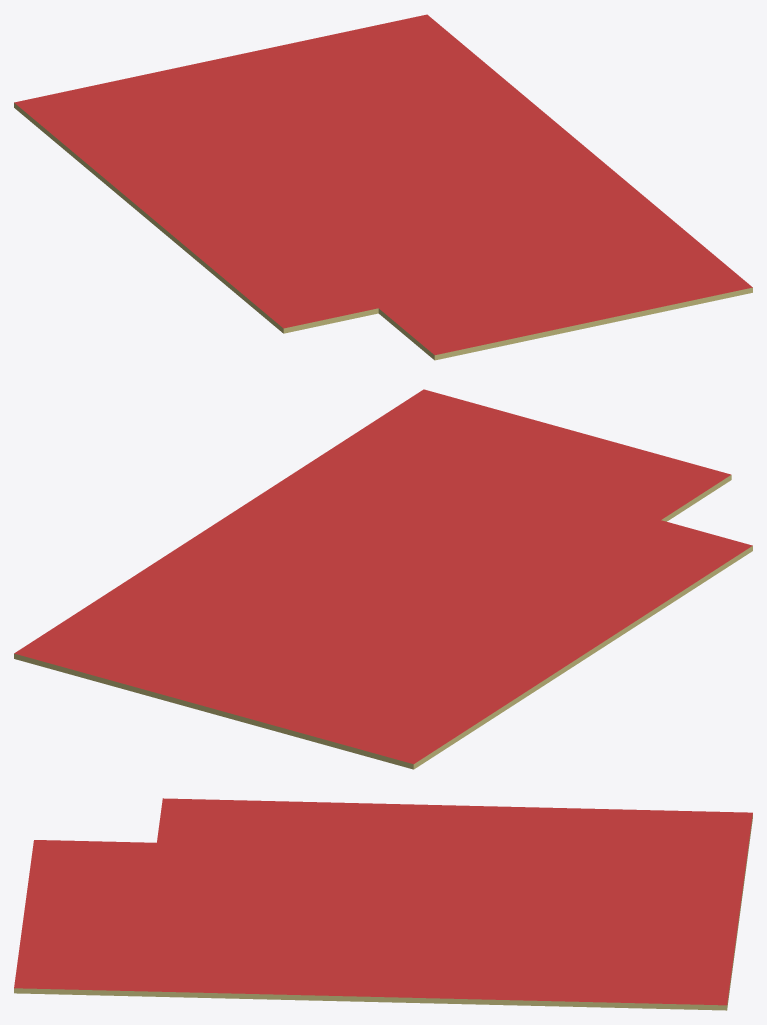
3 renders of one model, top to bottom at view 1: azimuth 30°, elevation 25°; view 2: azimuth 150°, elevation 25°; view 3: azimuth 270°, elevation 25°, orthographic. The views are drawn at different scales.
Bounding box in the file's own units: 8.62 × 13.01 × 0.1.
